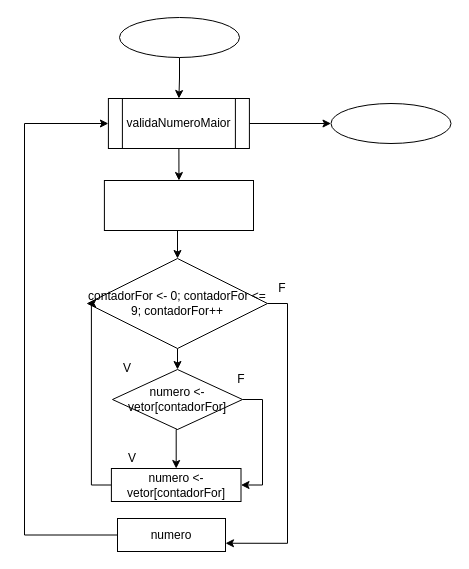
The diagram is 469 pixels wide and 569 high, and some of its shapes have lost their labels. Each missing label, with the box of its shape:
Fim: (330, 102, 451, 144)
int numero <- 0 int contadorFor <- 0: (103, 180, 254, 230)
Início: (118, 16, 240, 58)
